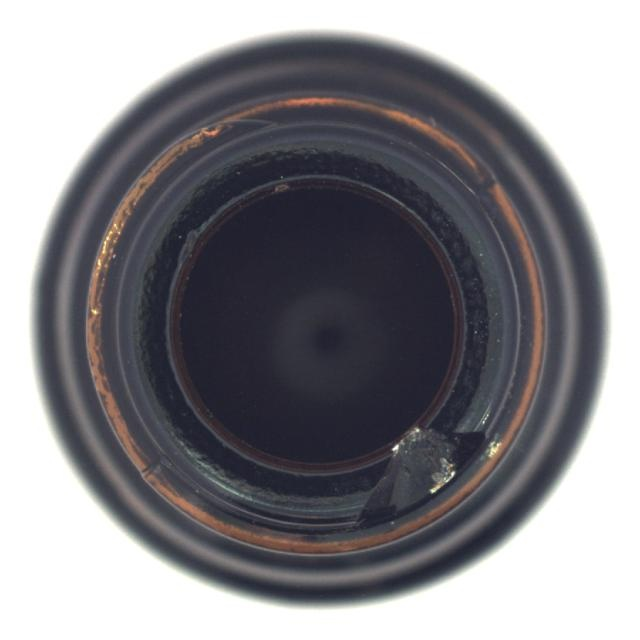bad-broken_small: (29, 29, 611, 609)
